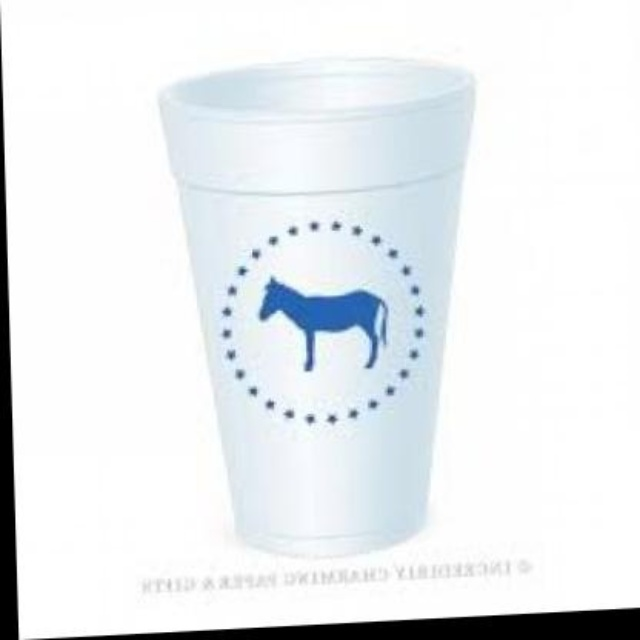trash: (160, 58, 472, 554)
